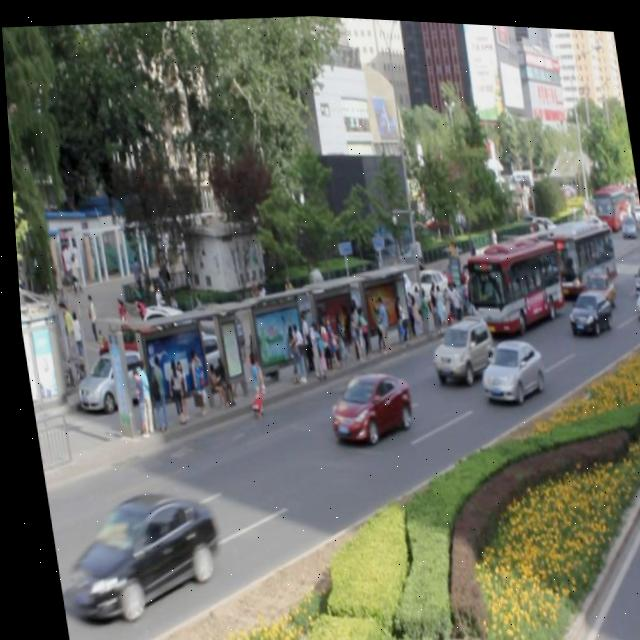car: (57, 481, 218, 624), (319, 361, 411, 441), (470, 327, 541, 399), (422, 306, 492, 377), (559, 279, 608, 330), (573, 263, 611, 302), (627, 266, 640, 314)
van: (456, 223, 562, 330), (532, 203, 614, 293)
